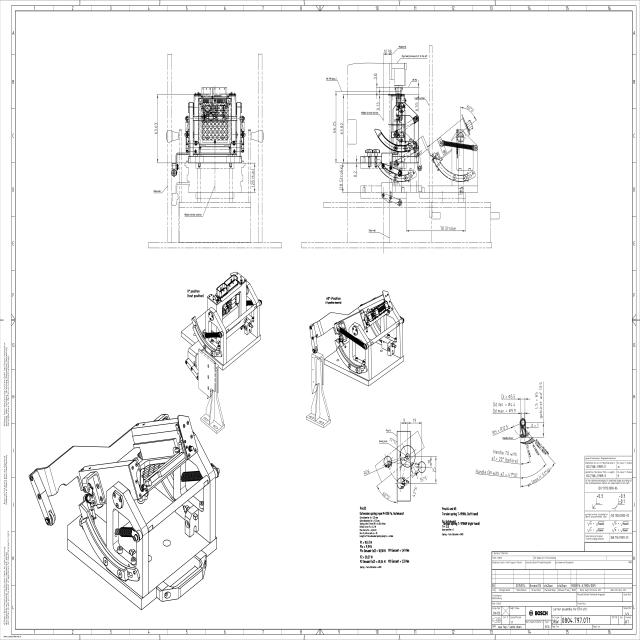dimension: (520, 462, 556, 489), (474, 468, 542, 480), (491, 448, 532, 467), (404, 224, 468, 234), (362, 458, 389, 480), (489, 420, 522, 438), (338, 94, 346, 166), (491, 402, 530, 416), (374, 482, 398, 504), (458, 102, 478, 128), (153, 92, 160, 166), (530, 442, 550, 467), (332, 89, 338, 164), (538, 380, 545, 439), (532, 395, 540, 438), (499, 392, 530, 402), (377, 436, 398, 450), (372, 95, 381, 122), (338, 164, 346, 194), (352, 153, 358, 193), (372, 69, 381, 95), (413, 93, 421, 121), (411, 475, 419, 501), (250, 162, 256, 194), (432, 454, 438, 485), (406, 417, 424, 427), (524, 422, 539, 431), (417, 474, 428, 485), (398, 417, 410, 427), (382, 49, 393, 58), (426, 455, 432, 469), (412, 461, 420, 470)
